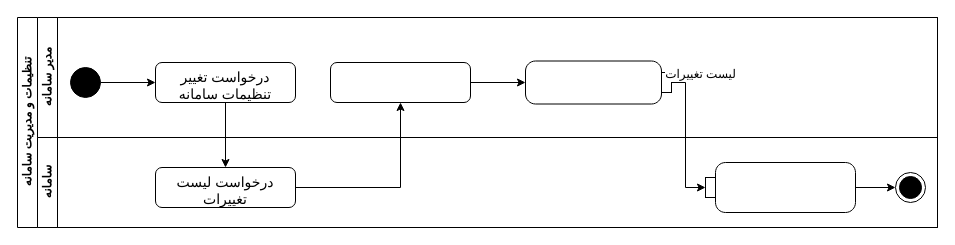
Image size: 955x245. Some labels were removed from this diagram. The centre of each missing label's shape, as x and y in pixels:
اعمال تغییرات دریافتی: (780,187)
تایید لیست تغییرات توسط مدیر سامانه: (598,82)
ورود لیست تغییرات: (400,82)
